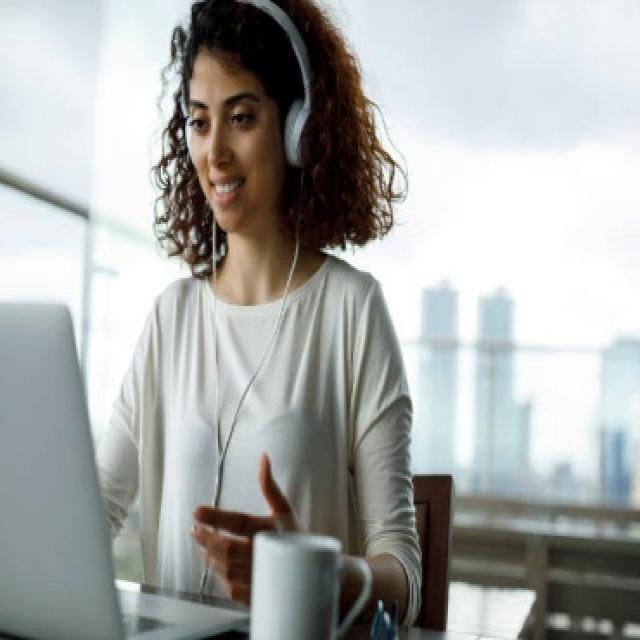adult: (90, 0, 419, 609)
